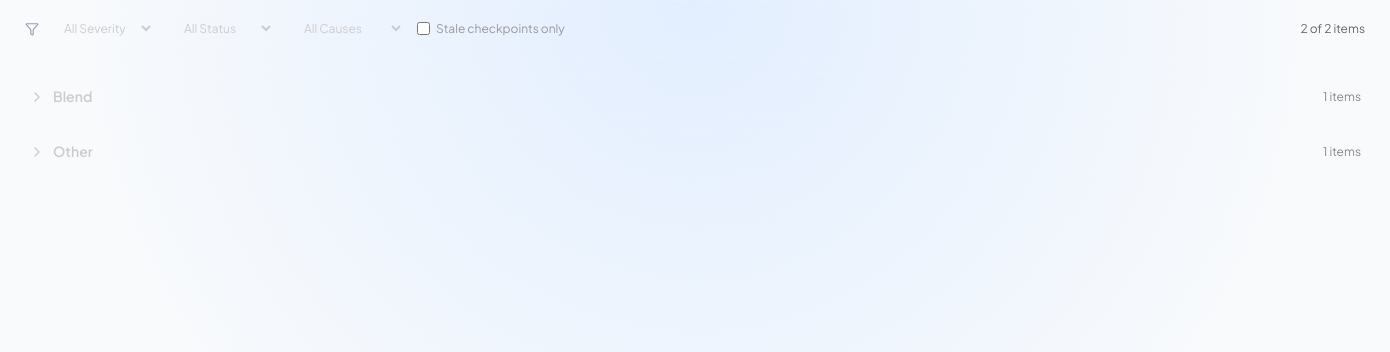
Scenario: PortfolioReconcile › filters › filters by status
Select "Pending" in the dropdown named "Filter by status" at {"x": 221, "y": 28}, box [167,13,275,44]
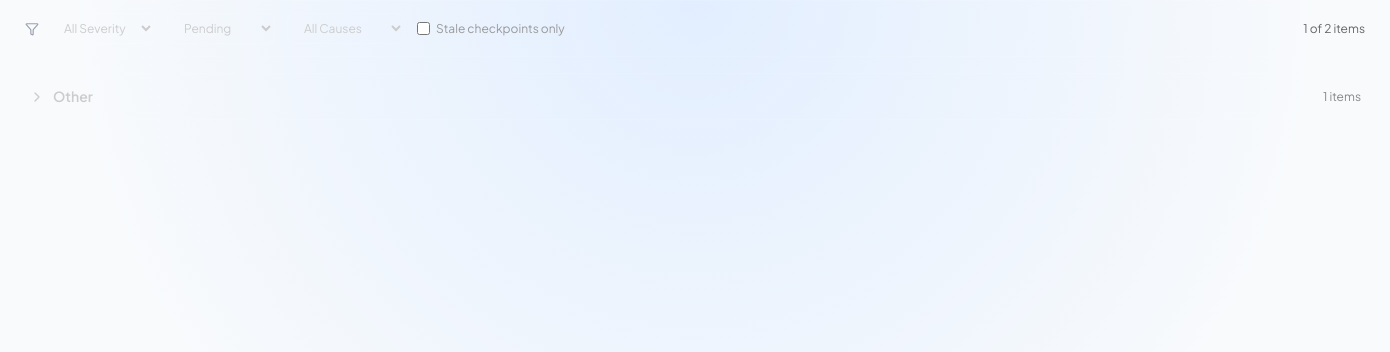
Click the button "Other 1 items".
click(73, 96)  # box [12,73,1378,120]
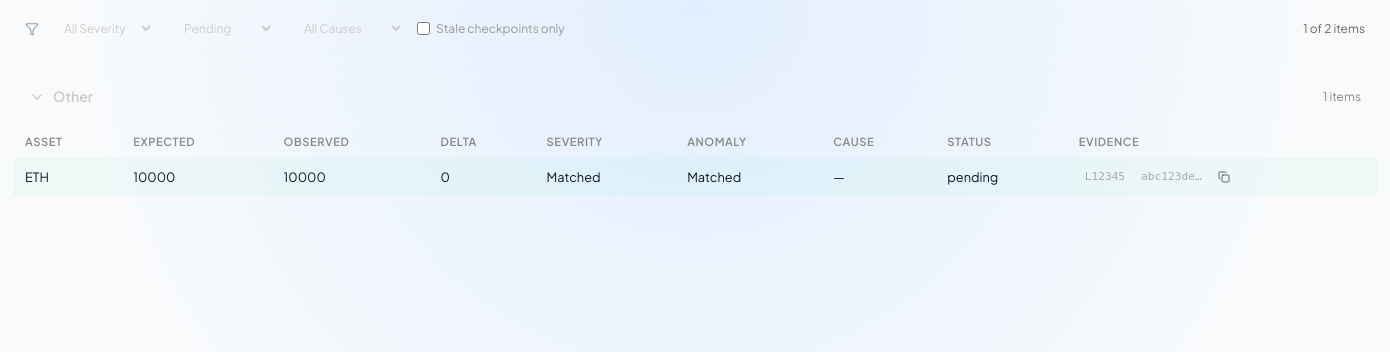
Result: the text "ETH" is shown at [12,158,121,196]
